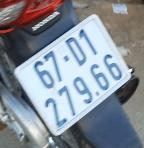1: (75, 26, 101, 60)
2: (39, 94, 71, 131)
6: (29, 57, 58, 93), (86, 61, 113, 94), (101, 51, 125, 84)
7: (40, 48, 70, 85), (55, 84, 84, 119)
9: (70, 73, 98, 107)
D: (62, 33, 92, 70)
